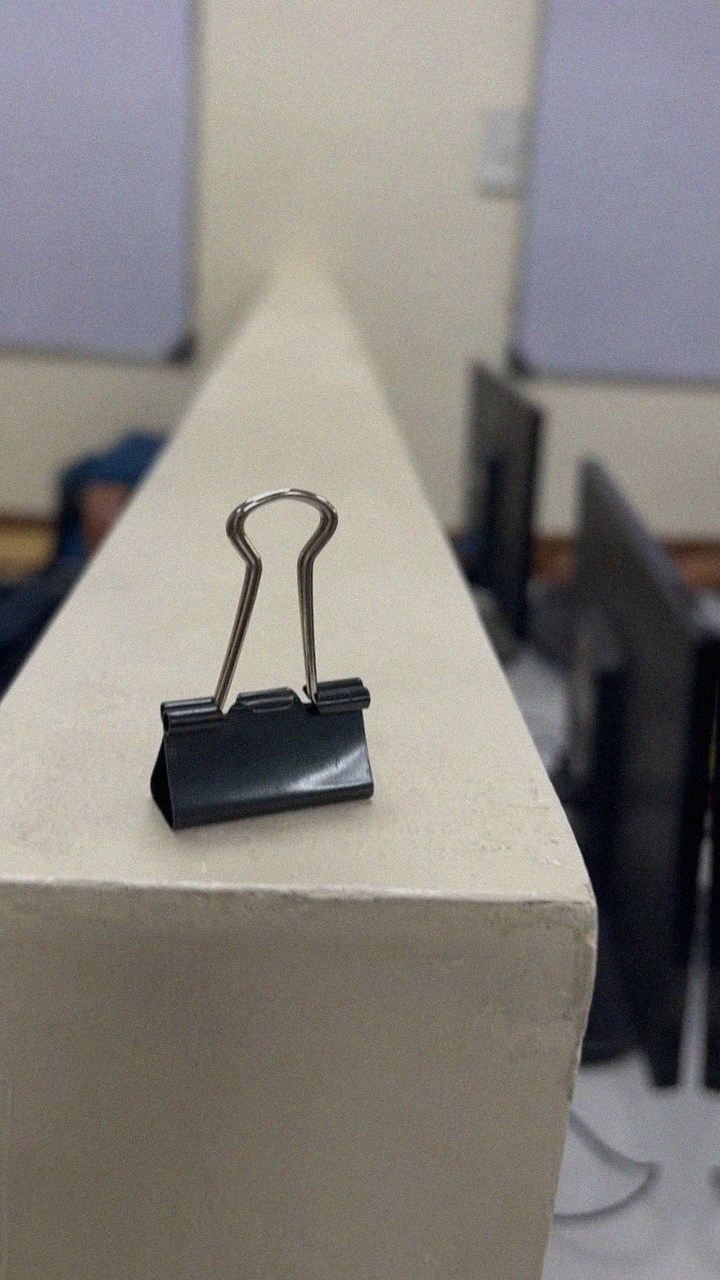kep_giay: (140, 475, 396, 840)
